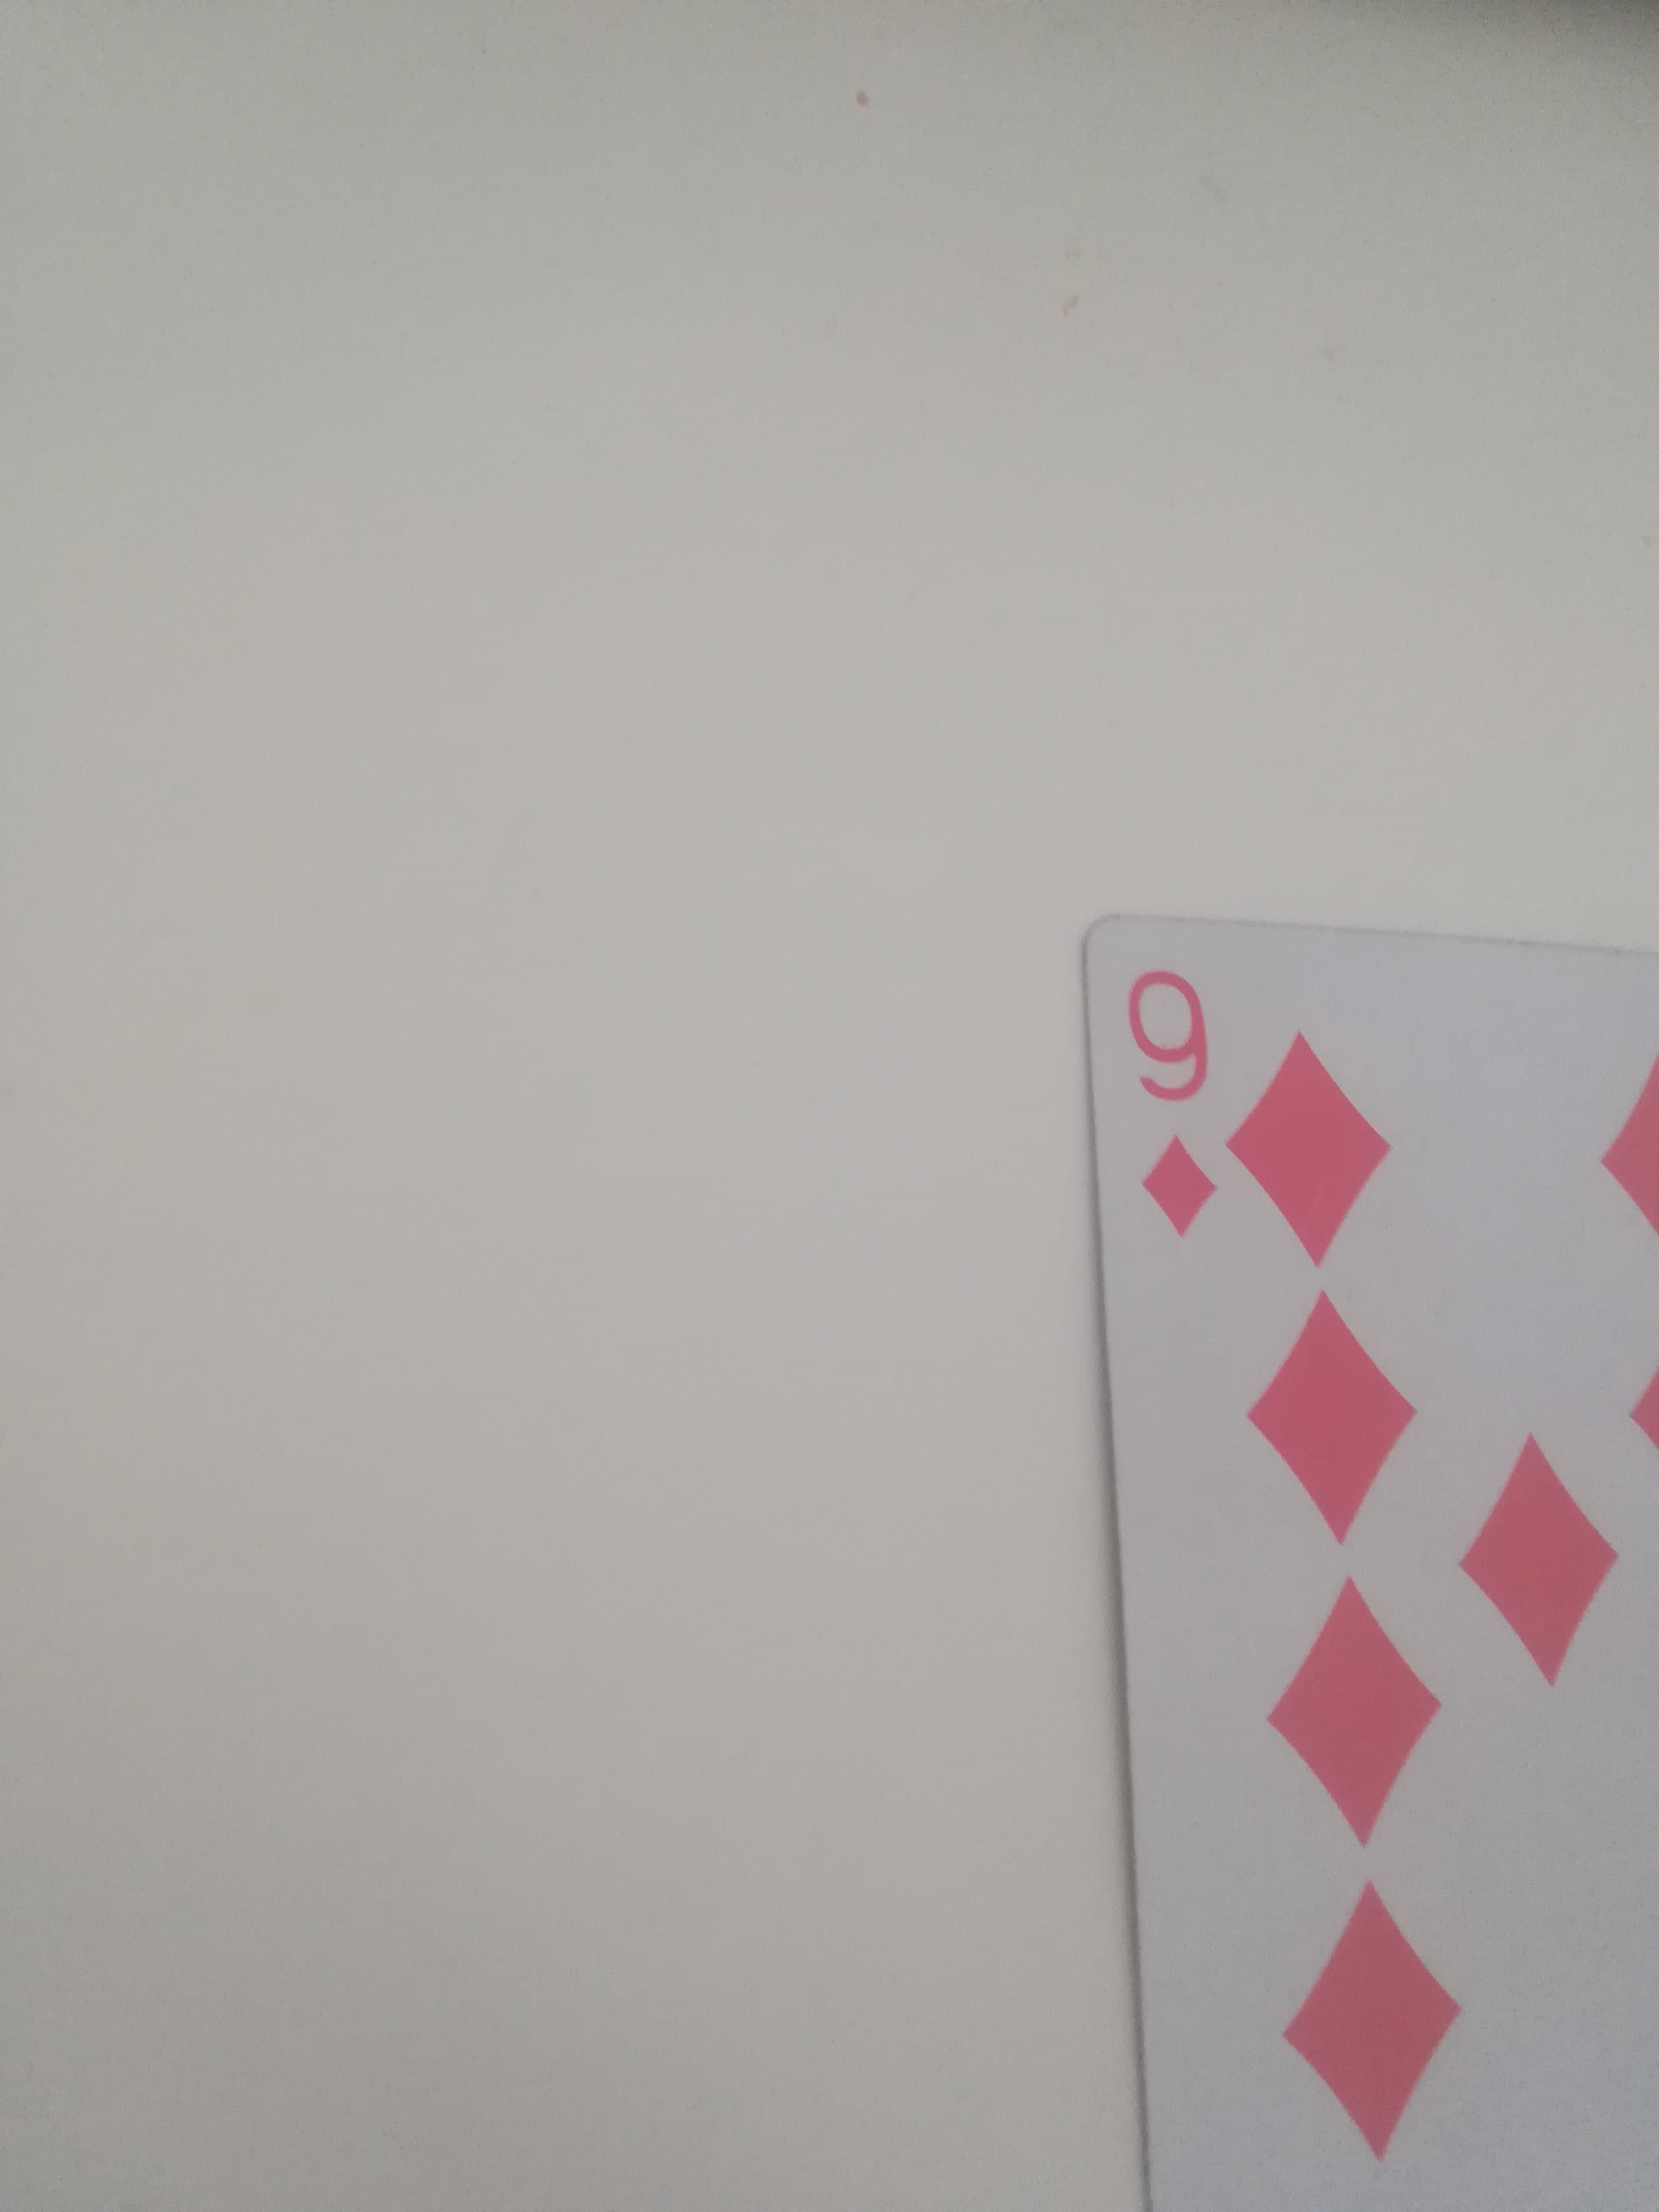9D: (1072, 897, 1652, 2212)
